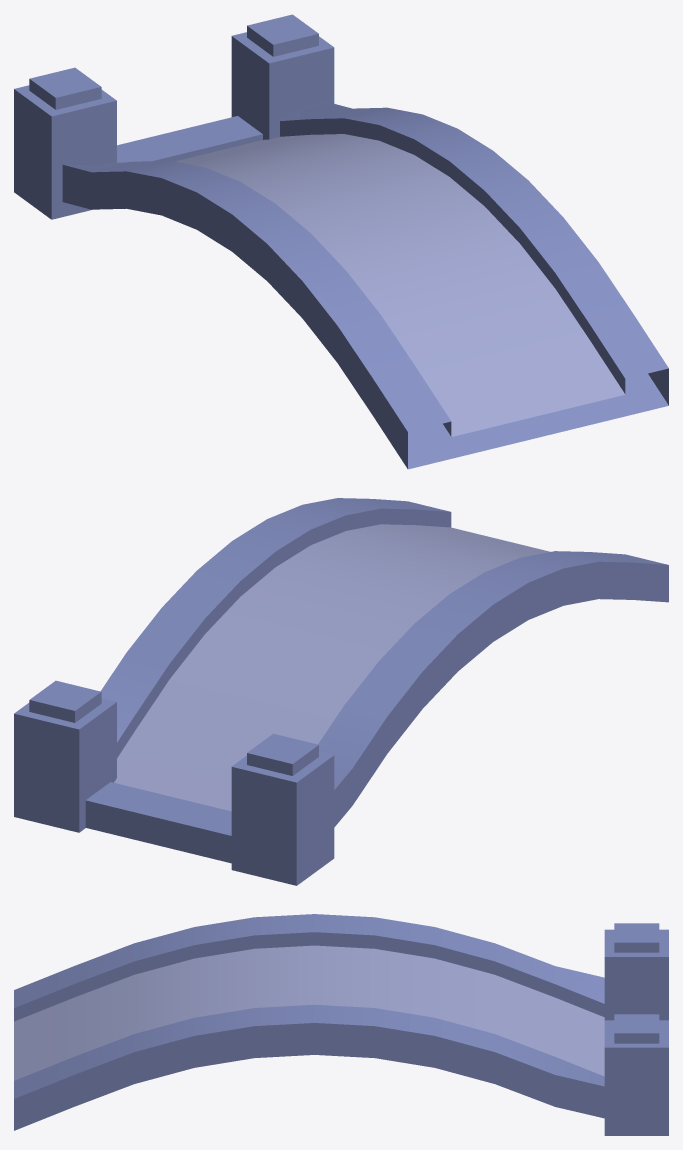
The model's file is bridge_1d_2.fbx.
3 renders of one model, top to bottom at view 1: azimuth 30°, elevation 25°; view 2: azimuth 150°, elevation 25°; view 3: azimuth 270°, elevation 25°, orthographic. The views are drawn at different scales.
Visible parts, largest first — view 1: bridge_1d_2; view 2: bridge_1d_2; view 3: bridge_1d_2.
Boxes of the visible parts, bbox=[...] form: bridge_1d_2: bbox=[14, 14, 668, 469]; bridge_1d_2: bbox=[14, 498, 668, 885]; bridge_1d_2: bbox=[14, 914, 668, 1135].
Size of the model in its own units: 10.4 by 4.46 by 24.4.
